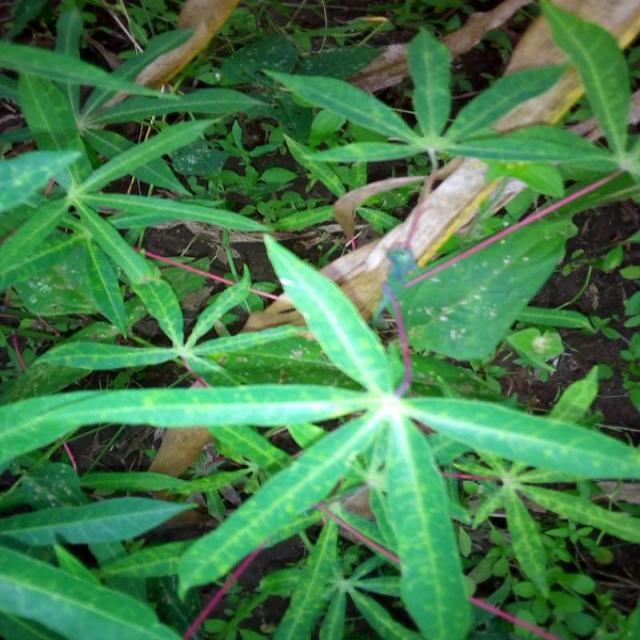cassava leaf: (0, 226, 639, 639)
